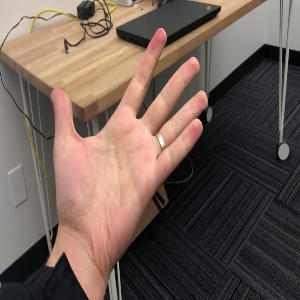hand: (51, 27, 208, 267)
